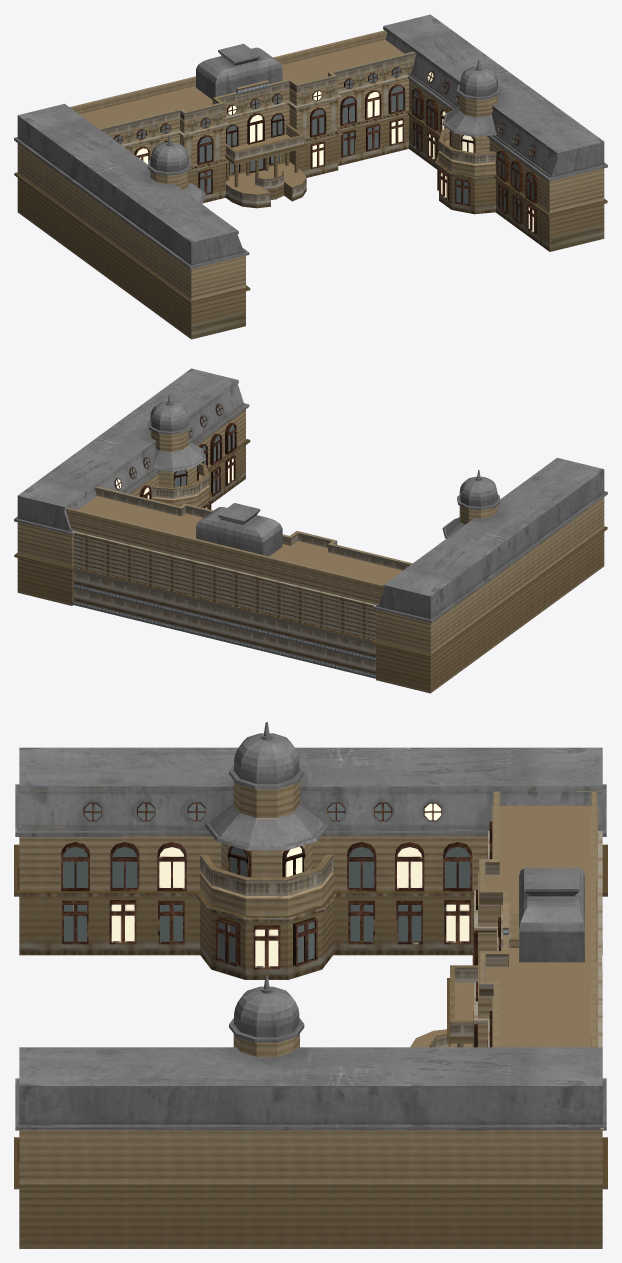
Rendered from Palac.fbx.
The picture shows the model from 3 angles, top to bottom: view 1: azimuth 30°, elevation 25°; view 2: azimuth 150°, elevation 25°; view 3: azimuth 270°, elevation 25°; orthographic projection. The views are drawn at different scales.
Visible parts, largest first — view 1: Palac_L, Palac, Palac_R, Windows, Windows_R; view 2: Palac, Palac_L, Palac_R, Windows_R; view 3: Palac_R, Palac_L, Palac, Windows_L, Windows.
Part boxes in pixels (x1,y1,x2,y2): Palac_L: [14, 103, 250, 339]; Palac: [70, 30, 416, 208]; Palac_R: [383, 14, 607, 251]; Windows: [113, 67, 405, 195]; Windows_R: [411, 71, 537, 234]; Palac: [66, 486, 412, 678]; Palac_L: [371, 457, 607, 693]; Palac_R: [14, 368, 250, 605]; Windows_R: [114, 404, 236, 509]; Palac_R: [14, 975, 607, 1248]; Palac_L: [14, 722, 607, 979]; Palac: [410, 791, 602, 1047]; Windows_L: [61, 802, 472, 969]; Windows: [473, 821, 500, 1047].
Bounding box in the file's own units: 7338 × 2307 × 5383.
1 material, 1 textured.
